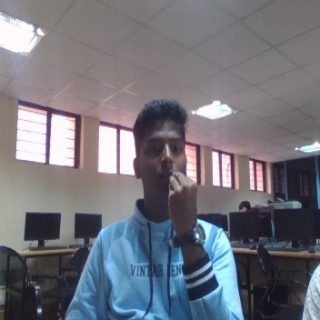Food: (165, 170, 203, 236)
